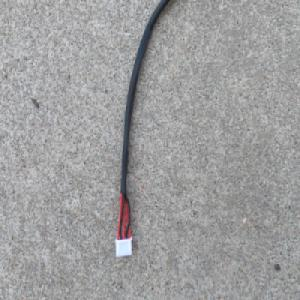Wire: (113, 0, 172, 260)
